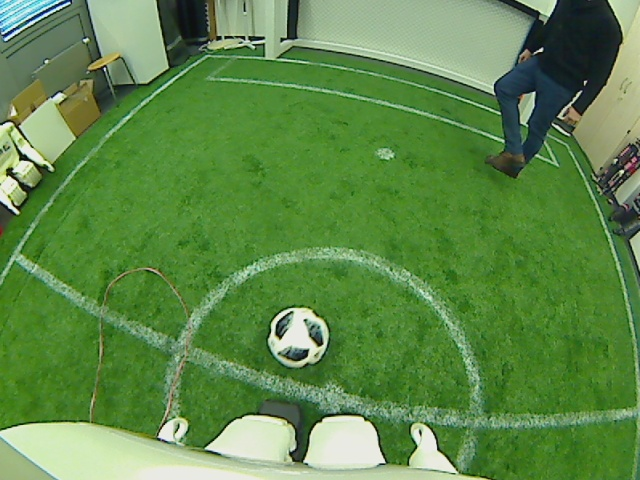ball: (267, 306, 328, 369)
